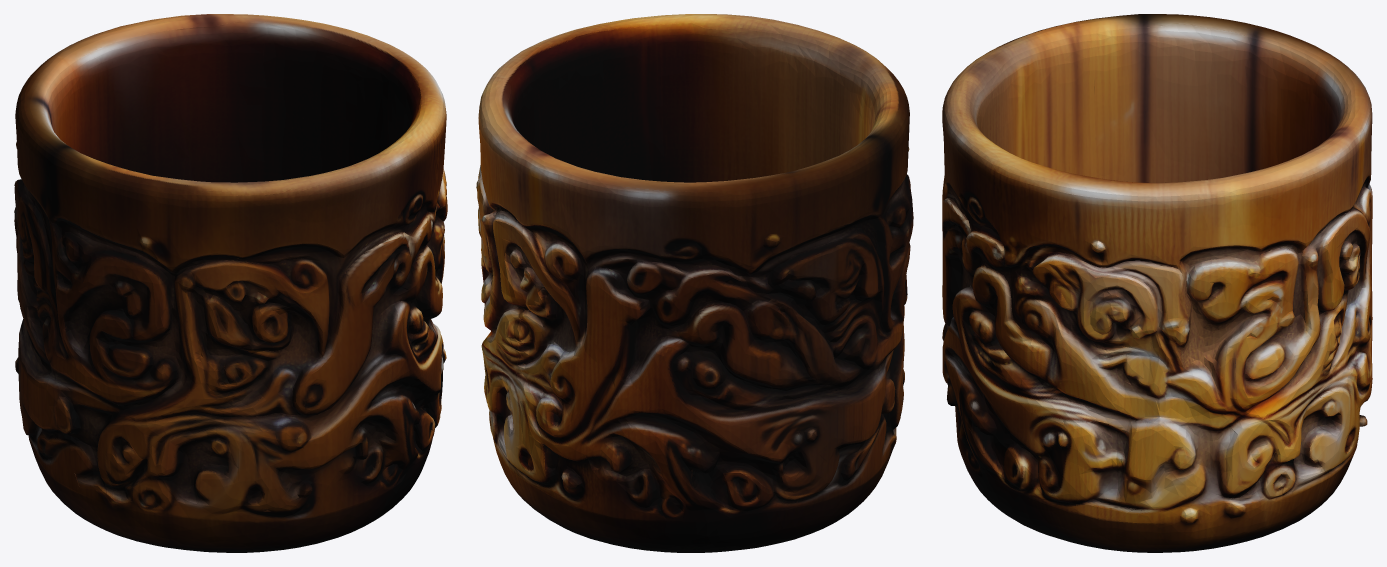
Rendered from wooden-shot-glass-rustic.jpeg.glb.
The picture shows the model from 3 angles, left to right: view 1: azimuth 30°, elevation 25°; view 2: azimuth 150°, elevation 25°; view 3: azimuth 270°, elevation 25°; orthographic projection.
Visible parts, largest first — view 1: world; view 2: world; view 3: world.
Boxes of the visible parts, x1,y1,x2,y2 form: world: [14, 14, 447, 552]; world: [476, 14, 913, 552]; world: [942, 14, 1372, 552].
Bounding box in the file's own units: 0.9993 × 0.9942 × 0.9995.
Materials: 1 (1 with a texture image).
